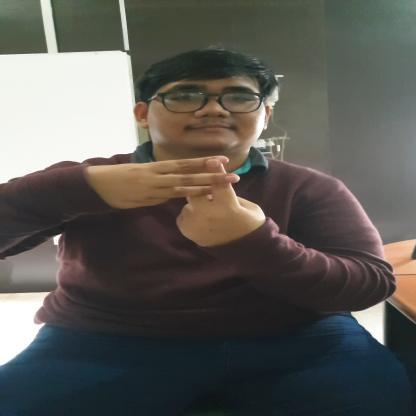B: (104, 153, 260, 248)
